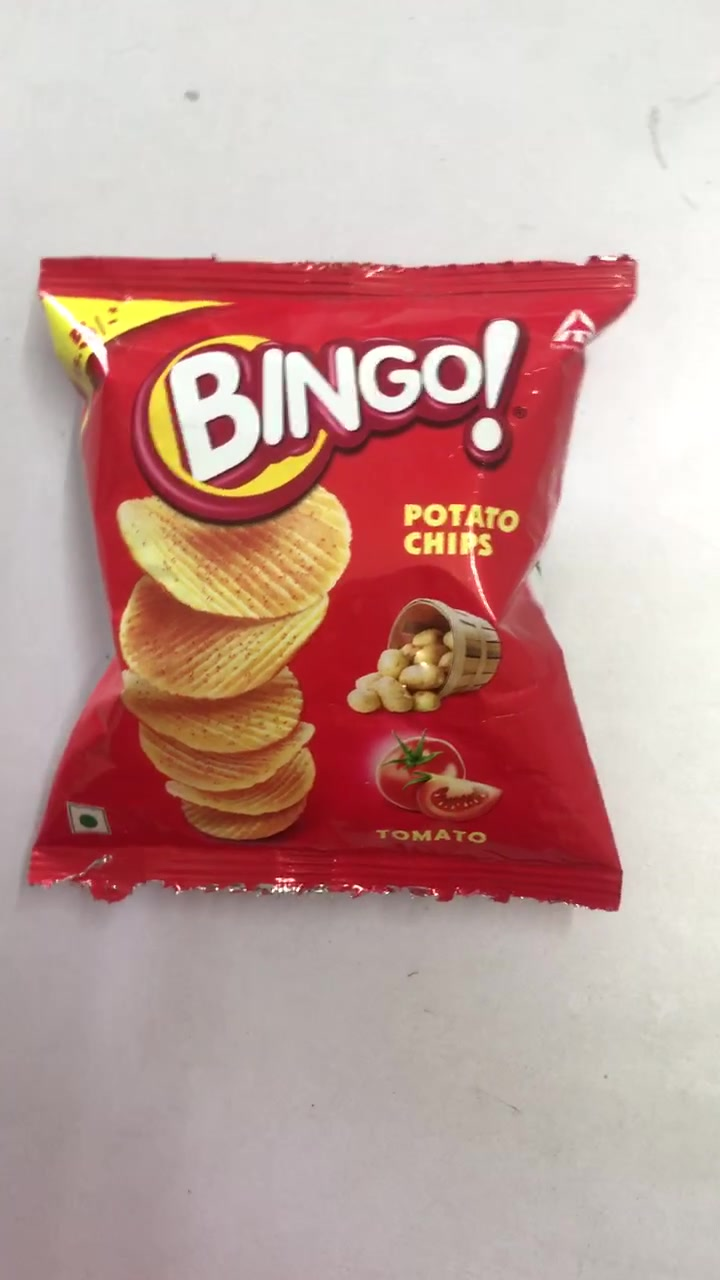Bingo: (24, 257, 621, 905)
